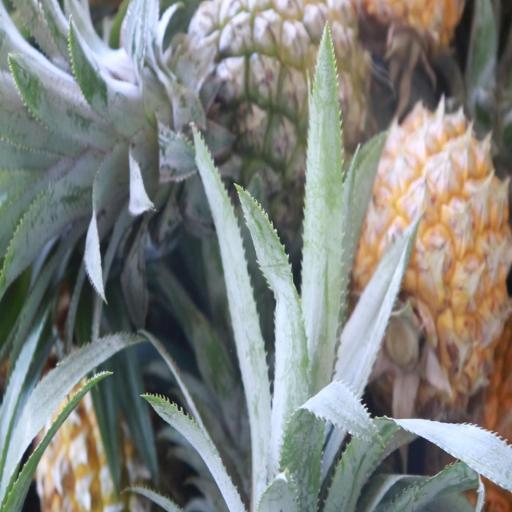Pineapple - v8 v1: (359, 109, 512, 387)
